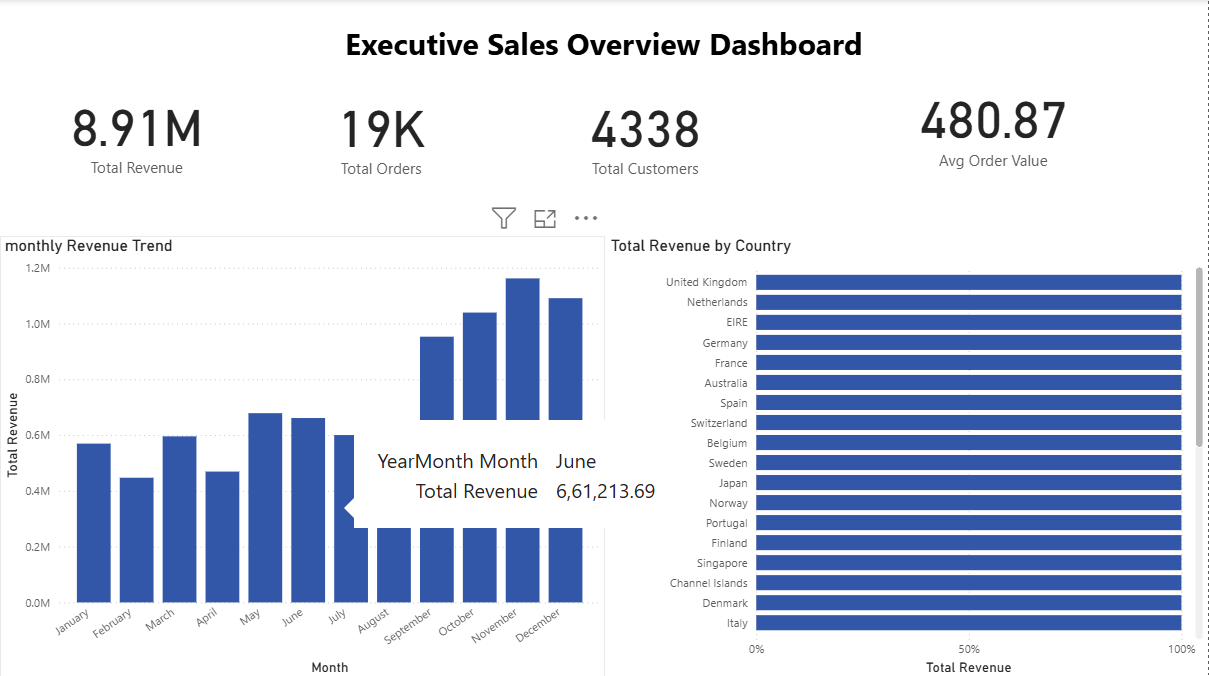

This screenshot's page, from the dashboard's own definition file:
{"tool":"powerbi","page":{"name":"Page 1","canvas":[1280,720],"ordinal":0},"visuals":[{"type":"card","fields":{"Values":["cleaned_retail.Total Revenue"]},"box":[0,0,289.5,279.9],"z":0},{"type":"card","fields":{"Values":["cleaned_retail.Total Orders"]},"box":[264.6,0,279.7,281.6],"z":1000},{"type":"card","fields":{"Values":["cleaned_retail.Total Customers"]},"box":[544,0,279.9,281.5],"z":2000},{"type":"card","fields":{"Values":["cleaned_retail.Avg Order Value"]},"box":[825.5,0,454.9,264],"z":3000},{"type":"clusteredColumnChart","title":"monthly Revenue Trend","fields":{"Category":["cleaned_retail.YearMonth.Variation.Date Hierarchy.Month"],"Y":["cleaned_retail.Total Revenue"]},"box":[0,251.3,641,469.2],"z":4000},{"type":"hundredPercentStackedBarChart","fields":{"Category":["cleaned_retail.Country"],"Y":["cleaned_retail.Total Revenue"]},"box":[642.6,251.3,637.8,469.2],"z":5000},{"type":"textbox","box":[0,19.1,1280.4,66.8],"z":5001}]}

Visuals, with their boxes in screenshot pixels (x1, y1, x2, y2), scaled from the page's 1280x720 canvas onto the 1209x676 screenshot:
card - cleaned_retail.Total Revenue: bbox=(0, 0, 273, 263)
card - cleaned_retail.Total Orders: bbox=(250, 0, 514, 264)
card - cleaned_retail.Total Customers: bbox=(514, 0, 778, 264)
card - cleaned_retail.Avg Order Value: bbox=(780, 0, 1208, 248)
"monthly Revenue Trend" clusteredColumnChart: bbox=(0, 236, 605, 675)
hundredPercentStackedBarChart - cleaned_retail.Country x cleaned_retail.Total Revenue: bbox=(607, 236, 1208, 675)
textbox: bbox=(0, 18, 1208, 81)
